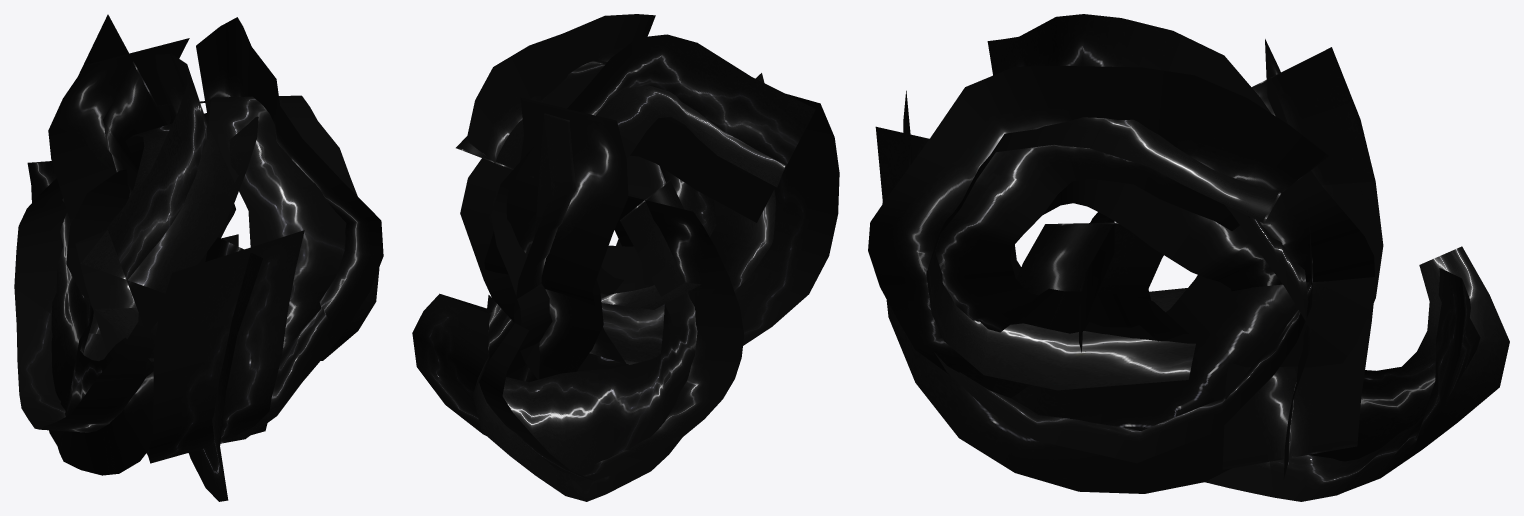
The model's file is magic_eletric02.fbx.
3 renders of one model, left to right at view 1: azimuth 30°, elevation 25°; view 2: azimuth 150°, elevation 25°; view 3: azimuth 270°, elevation 25°, orthographic. The views are drawn at different scales.
Visible parts, largest first — view 1: LODGroup_1_MainMesh_4_SubMesh_1, LODGroup_1_MainMesh_3_SubMesh_1, LODGroup_1_MainMesh_1_SubMesh_1, LODGroup_1_MainMesh_2_SubMesh_1; view 2: LODGroup_1_MainMesh_1_SubMesh_1, LODGroup_1_MainMesh_2_SubMesh_1, LODGroup_1_MainMesh_4_SubMesh_1, LODGroup_1_MainMesh_3_SubMesh_1; view 3: LODGroup_1_MainMesh_3_SubMesh_1, LODGroup_1_MainMesh_4_SubMesh_1, LODGroup_1_MainMesh_2_SubMesh_1, LODGroup_1_MainMesh_1_SubMesh_1.
Boxes of the visible parts, x1,y1,x2,y2 form: LODGroup_1_MainMesh_4_SubMesh_1: [48, 14, 304, 501]; LODGroup_1_MainMesh_3_SubMesh_1: [95, 17, 383, 443]; LODGroup_1_MainMesh_1_SubMesh_1: [14, 161, 238, 475]; LODGroup_1_MainMesh_2_SubMesh_1: [66, 53, 258, 334]; LODGroup_1_MainMesh_1_SubMesh_1: [412, 180, 744, 501]; LODGroup_1_MainMesh_2_SubMesh_1: [460, 34, 815, 382]; LODGroup_1_MainMesh_4_SubMesh_1: [484, 73, 839, 379]; LODGroup_1_MainMesh_3_SubMesh_1: [456, 14, 716, 362]; LODGroup_1_MainMesh_3_SubMesh_1: [868, 66, 1328, 398]; LODGroup_1_MainMesh_4_SubMesh_1: [875, 39, 1383, 493]; LODGroup_1_MainMesh_2_SubMesh_1: [987, 14, 1374, 479]; LODGroup_1_MainMesh_1_SubMesh_1: [1016, 212, 1509, 501].
Size of the model in its own units: 26.71 by 39.68 by 46.38.
